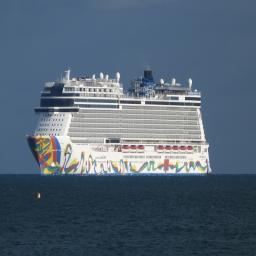cruises: (26, 61, 215, 181)
